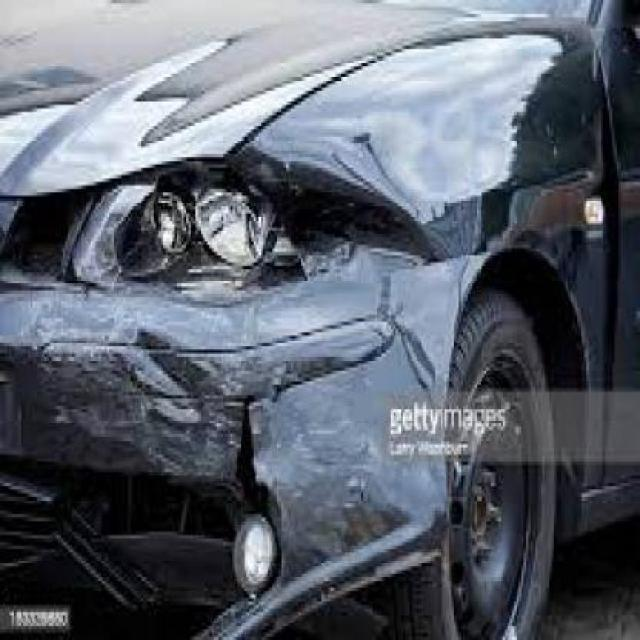damaged-front-bumper: (0, 256, 471, 636)
